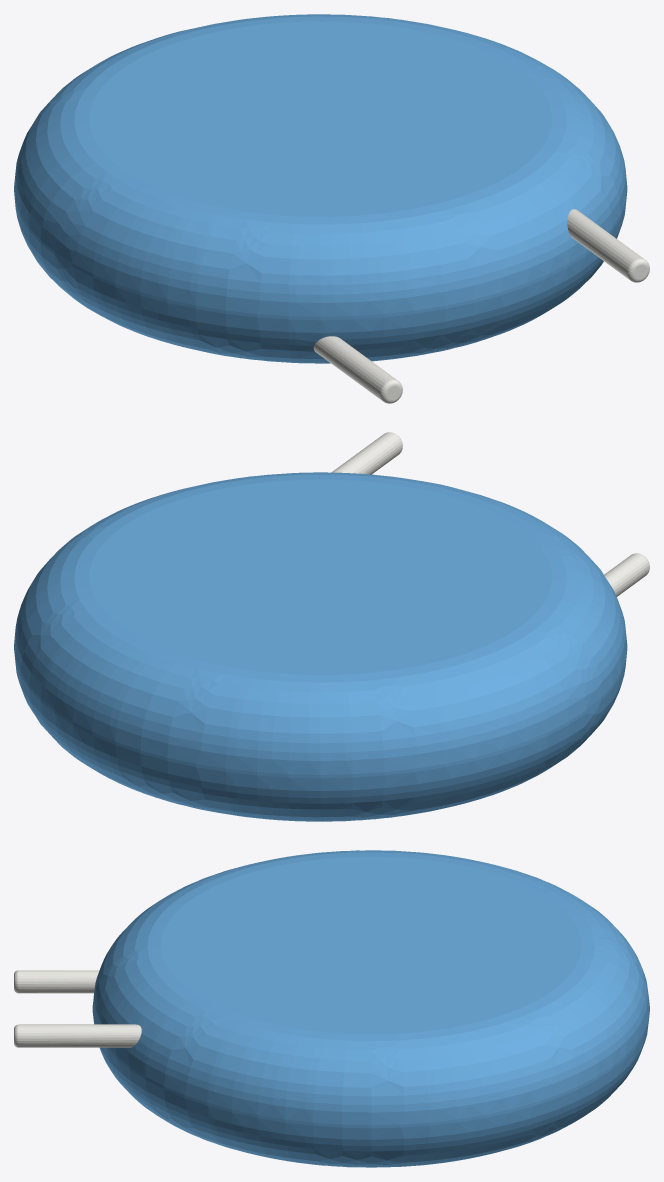
File: RV_Disc_D21.5mm_W5.4mm_P10mm.glb
The picture shows the model from 3 angles, top to bottom: view 1: azimuth 30°, elevation 25°; view 2: azimuth 150°, elevation 25°; view 3: azimuth 270°, elevation 25°; orthographic projection. The views are drawn at different scales.
Visible parts, largest first — view 1: Shape_IndexedFaceSet.001, Shape_IndexedFaceSet.003, Shape_IndexedFaceSet.002, Shape_IndexedFaceSet, Shape_IndexedFaceSet.006, Shape_IndexedFaceSet.004; view 2: Shape_IndexedFaceSet.001, Shape_IndexedFaceSet.003, Shape_IndexedFaceSet.002, Shape_IndexedFaceSet, Shape_IndexedFaceSet.004, Shape_IndexedFaceSet.006; view 3: Shape_IndexedFaceSet.001, Shape_IndexedFaceSet.003, Shape_IndexedFaceSet.002, Shape_IndexedFaceSet.004, Shape_IndexedFaceSet, Shape_IndexedFaceSet.006.
Part boxes in pixels (left/top/right/bottom): Shape_IndexedFaceSet.001: left=14, top=14, right=627, bottom=316; Shape_IndexedFaceSet.003: left=89, top=21, right=551, bottom=216; Shape_IndexedFaceSet.002: left=14, top=195, right=626, bottom=363; Shape_IndexedFaceSet: left=14, top=189, right=627, bottom=320; Shape_IndexedFaceSet.006: left=313, top=336, right=396, bottom=400; Shape_IndexedFaceSet.004: left=567, top=209, right=643, bottom=279; Shape_IndexedFaceSet.001: left=14, top=472, right=627, bottom=774; Shape_IndexedFaceSet.003: left=89, top=479, right=551, bottom=674; Shape_IndexedFaceSet.002: left=14, top=653, right=626, bottom=821; Shape_IndexedFaceSet: left=14, top=647, right=627, bottom=778; Shape_IndexedFaceSet.004: left=331, top=432, right=402, bottom=474; Shape_IndexedFaceSet.006: left=604, top=553, right=649, bottom=596; Shape_IndexedFaceSet.001: left=92, top=850, right=649, bottom=1125; Shape_IndexedFaceSet.003: left=161, top=856, right=581, bottom=1034; Shape_IndexedFaceSet.002: left=93, top=1015, right=649, bottom=1167; Shape_IndexedFaceSet.004: left=18, top=1024, right=141, bottom=1047; Shape_IndexedFaceSet: left=92, top=1009, right=649, bottom=1128; Shape_IndexedFaceSet.006: left=18, top=970, right=99, bottom=993.
Bounding box in the file's own units: 8.47 × 2.13 × 9.66.
